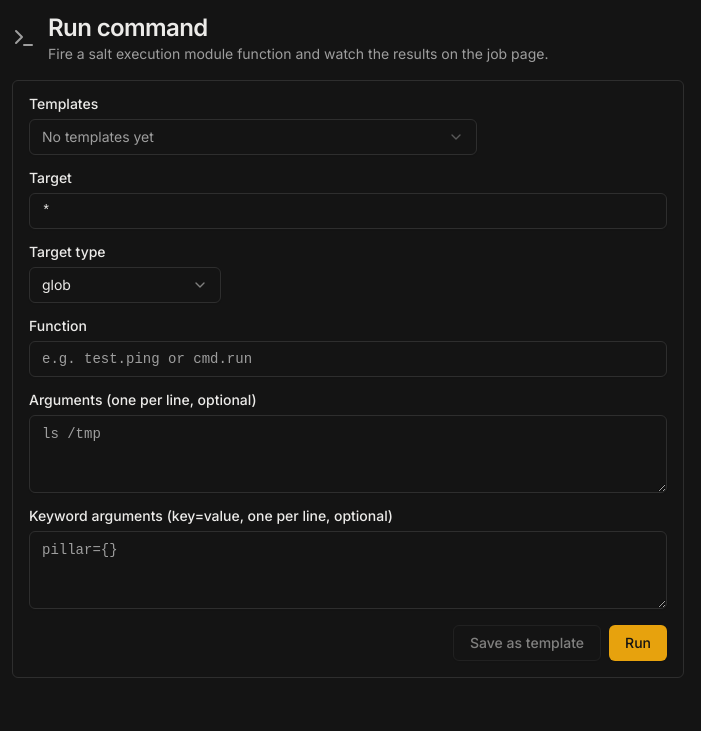
Test: RunCommandPage › shows a Forbidden message on 403
Type "test.ping" into the dropdown labelled "Function" at x=348, y=359, box left=29, top=341, right=667, bottom=377
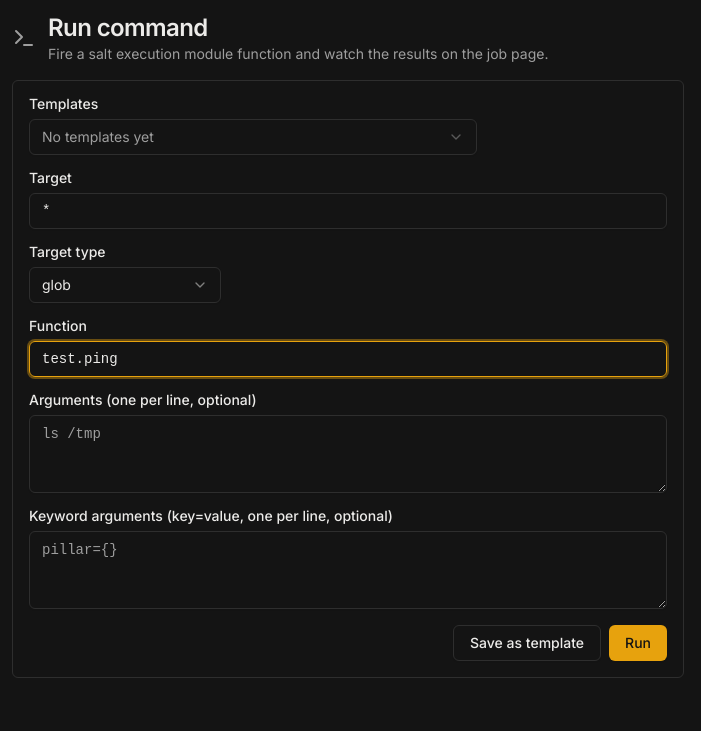
Click the button "Run" at x=638, y=643, box left=609, top=625, right=667, bottom=661
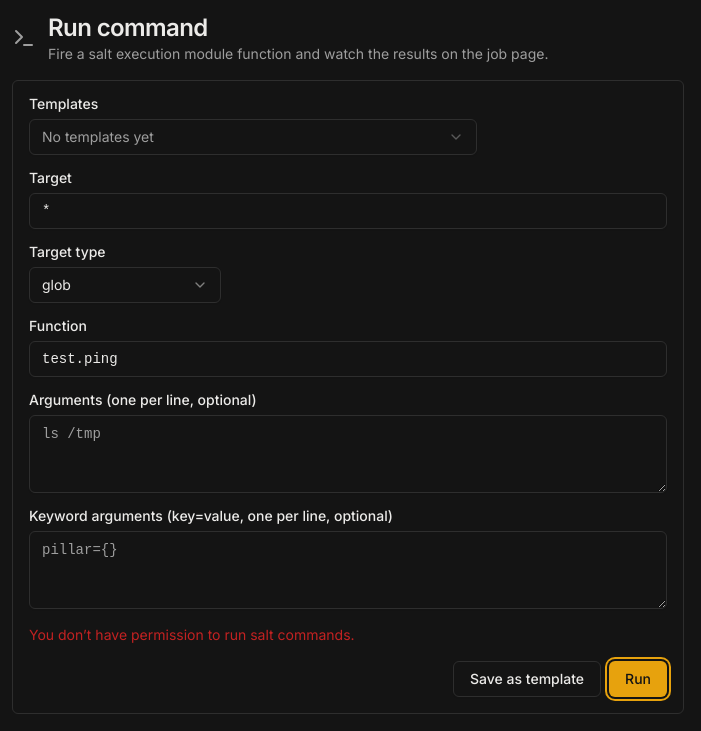
Expected: the text "You don’t have permission to run salt commands." is shown, left=29, top=626, right=355, bottom=643
